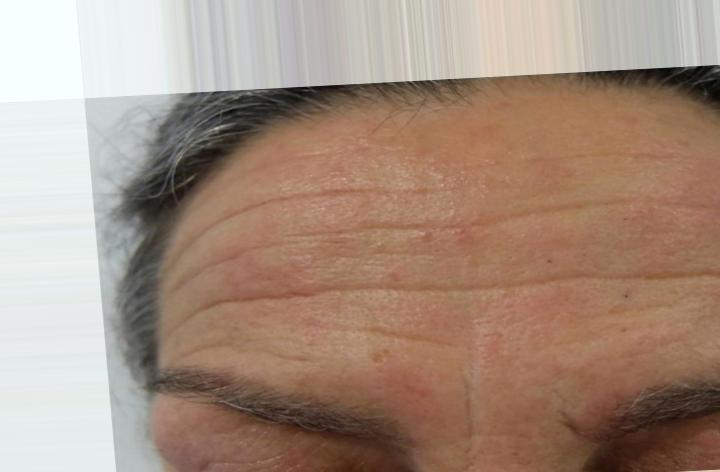Contact Dermatitis: (194, 164, 720, 370)
